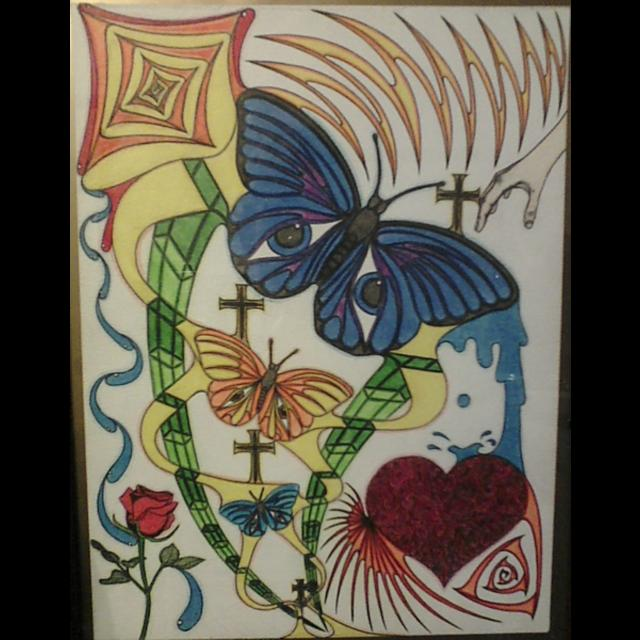Flower: (120, 486, 178, 538)
